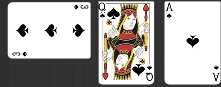3C: (11, 51, 29, 58), (73, 4, 90, 11)
AC: (166, 3, 175, 20)
